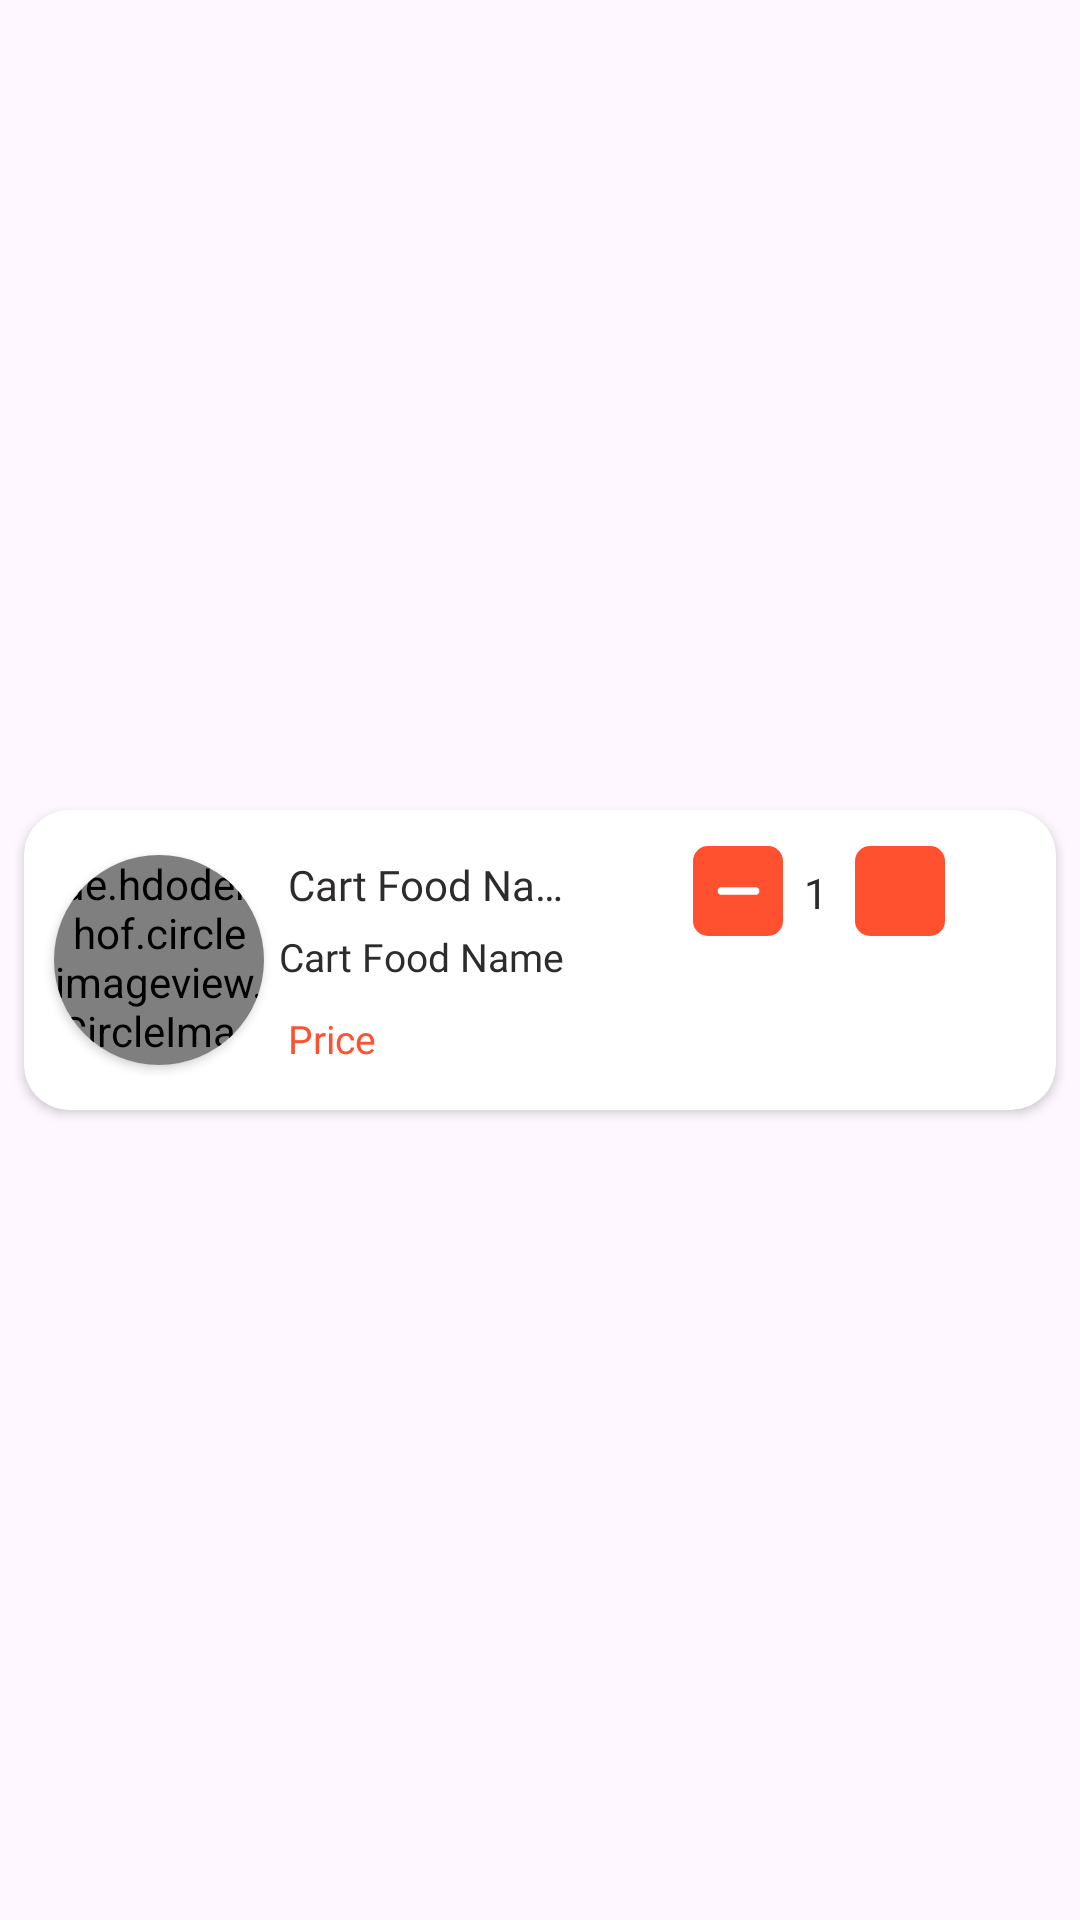

Point at icon controls on the screen. Image size 1080×1920, points as point (x, y).
minus: point (738, 891)
